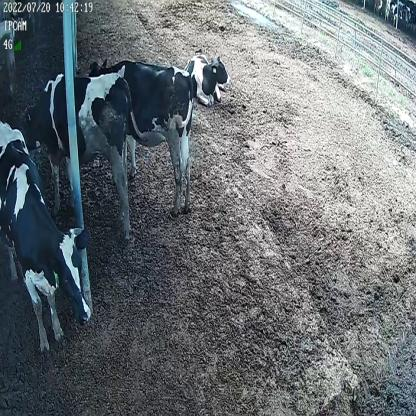cow: (19, 72, 163, 242), (0, 118, 94, 356), (85, 64, 198, 220), (185, 46, 230, 106)
